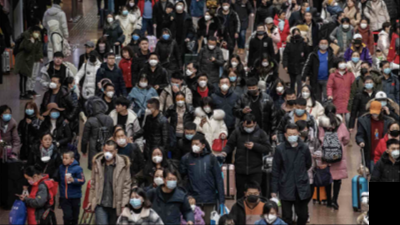with_mask: (263, 211, 277, 224), (129, 195, 142, 208), (246, 191, 259, 204), (153, 173, 165, 187), (103, 148, 115, 161), (166, 176, 177, 190), (151, 151, 163, 163), (286, 132, 298, 144), (191, 141, 202, 154), (50, 107, 60, 119), (116, 134, 126, 146), (175, 97, 186, 107), (138, 79, 149, 89), (183, 132, 196, 140), (24, 106, 34, 116), (48, 79, 58, 89), (295, 106, 305, 116), (364, 80, 374, 90), (185, 66, 194, 77), (390, 126, 399, 137), (391, 146, 399, 158), (2, 111, 11, 121), (139, 42, 149, 51), (170, 80, 180, 89), (198, 77, 207, 87), (244, 124, 254, 133), (220, 81, 229, 91), (286, 95, 295, 105), (301, 89, 310, 99), (299, 127, 308, 137), (377, 98, 387, 107), (148, 57, 157, 66), (351, 54, 360, 63), (106, 88, 114, 98), (145, 105, 153, 115), (247, 87, 257, 95), (383, 64, 391, 74), (203, 104, 211, 113), (276, 84, 284, 93), (320, 42, 328, 51), (360, 65, 368, 74), (371, 111, 380, 119), (189, 201, 196, 211), (26, 177, 34, 185), (228, 74, 236, 82), (208, 42, 216, 50), (176, 3, 184, 11), (354, 37, 362, 45), (33, 30, 40, 39), (88, 55, 97, 62), (339, 61, 346, 70), (107, 14, 114, 22), (132, 33, 139, 41), (162, 32, 170, 39), (98, 42, 105, 50), (231, 59, 238, 67), (204, 13, 211, 21), (257, 27, 264, 35), (261, 60, 269, 67), (71, 81, 76, 91), (264, 0, 271, 7), (342, 22, 349, 29), (360, 21, 367, 28), (122, 7, 128, 15), (129, 0, 135, 7), (222, 3, 228, 10), (280, 13, 286, 20), (340, 14, 346, 20), (291, 0, 296, 7), (305, 4, 310, 11), (378, 53, 383, 59)
without_mask: (42, 136, 52, 147), (106, 56, 116, 66), (54, 56, 63, 65), (62, 155, 70, 165), (115, 104, 123, 113), (84, 45, 92, 54), (121, 51, 129, 59), (266, 22, 273, 28), (305, 14, 311, 21), (294, 32, 300, 39), (347, 0, 353, 6), (165, 7, 170, 14)
